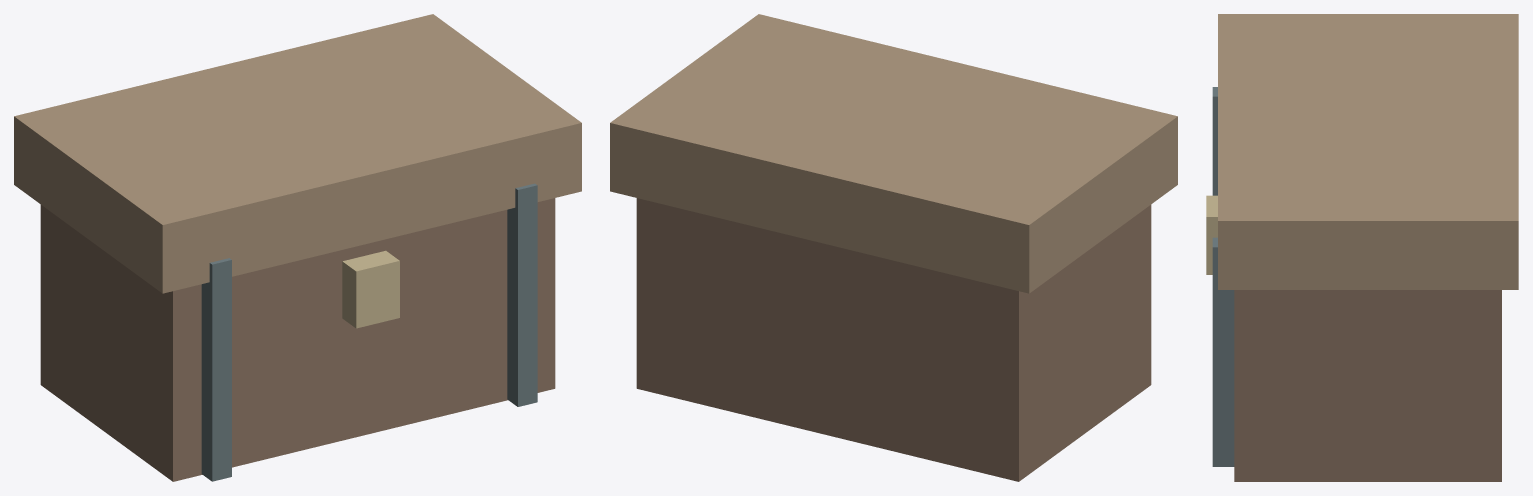
The model's file is bau_madeira.glb.
The picture shows the model from 3 angles, left to right: view 1: azimuth 30°, elevation 25°; view 2: azimuth 150°, elevation 25°; view 3: azimuth 270°, elevation 25°; orthographic projection.
Parts seen in each view (by area): view 1: part_001, part_000, part_004, part_003, part_002; view 2: part_001, part_000; view 3: part_001, part_000, part_004, part_002, part_003.
Part boxes in pixels (x1,y1,x2,y2): part_001: (14,14,581,293); part_000: (40,198,555,481); part_004: (507,183,537,406); part_003: (201,258,231,481); part_002: (342,250,399,328); part_001: (610,14,1177,293); part_000: (636,198,1151,481); part_001: (1218,14,1518,289); part_000: (1234,290,1501,481); part_004: (1212,237,1234,466); part_002: (1206,195,1217,274); part_003: (1212,87,1217,195).
Size of the model in its own units: 1.92 by 1.17 by 1.22.
